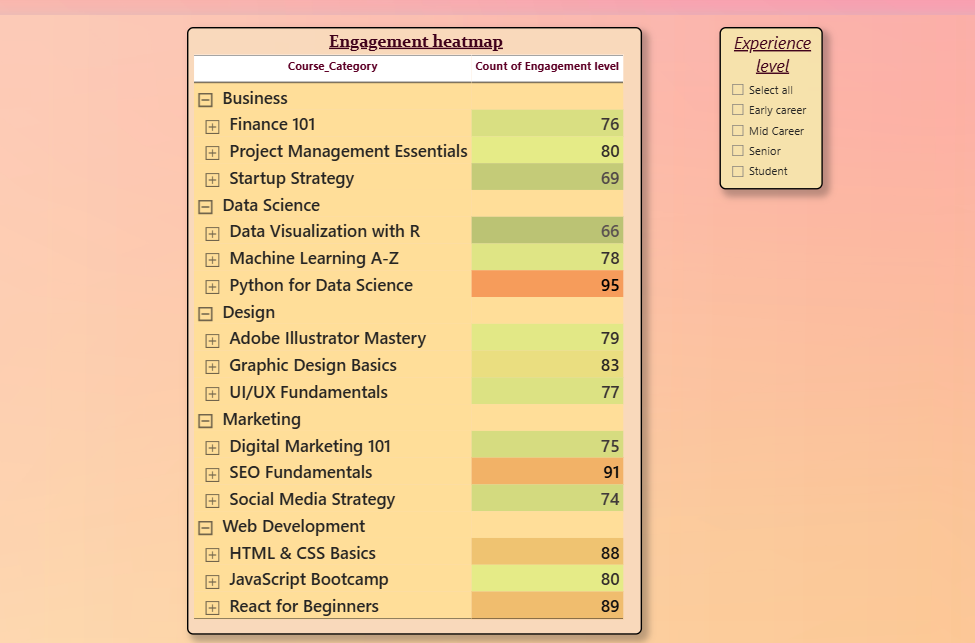

What the dashboard file says about the page in this screenshot:
{"tool":"powerbi","page":{"name":"Overview 3","canvas":[1800,900],"ordinal":2},"visuals":[{"type":"pivotTable","title":"Engagement  heatmap","fields":{"Values":["CountNonNull(Cleaned Data.Engagement level)"],"Rows":["Cleaned Data.Course_Category Hierarchy.Course_Category","Cleaned Data.Course_Category Hierarchy.Course_Name","Cleaned Data.Course_Category Hierarchy.Country","Cleaned Data.Course_Category Hierarchy.Gender"]},"box":[528.9,17.9,646.2,862.9],"z":1000},{"type":"slicer","title":"Experience level","fields":{"Values":["Cleaned Data.Experience level"]},"box":[1283.4,17.8,146.5,230.9],"z":2001}]}

Visuals, with their boxes on the page's 1800x900 design canvas (x1, y1, x2, y2). These are canvas units, not pixel positions in the 975x643 screenshot, which may show the page scaled, cropped or inside an application window:
"Engagement  heatmap" pivotTable: 529 18 1175 881
"Experience level" slicer: 1283 18 1430 249
